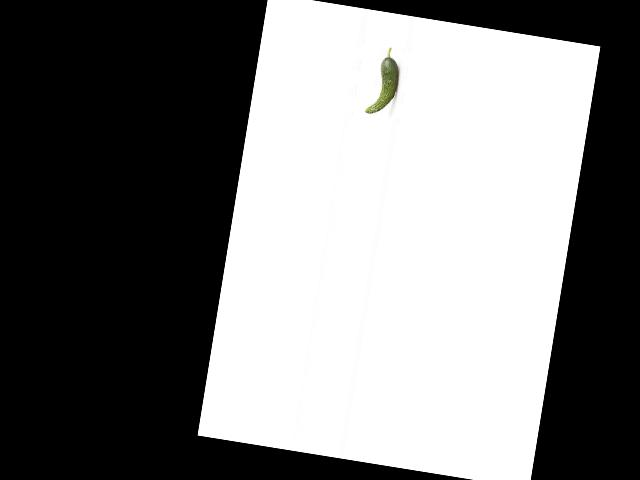cucumber: (365, 45, 403, 117)
